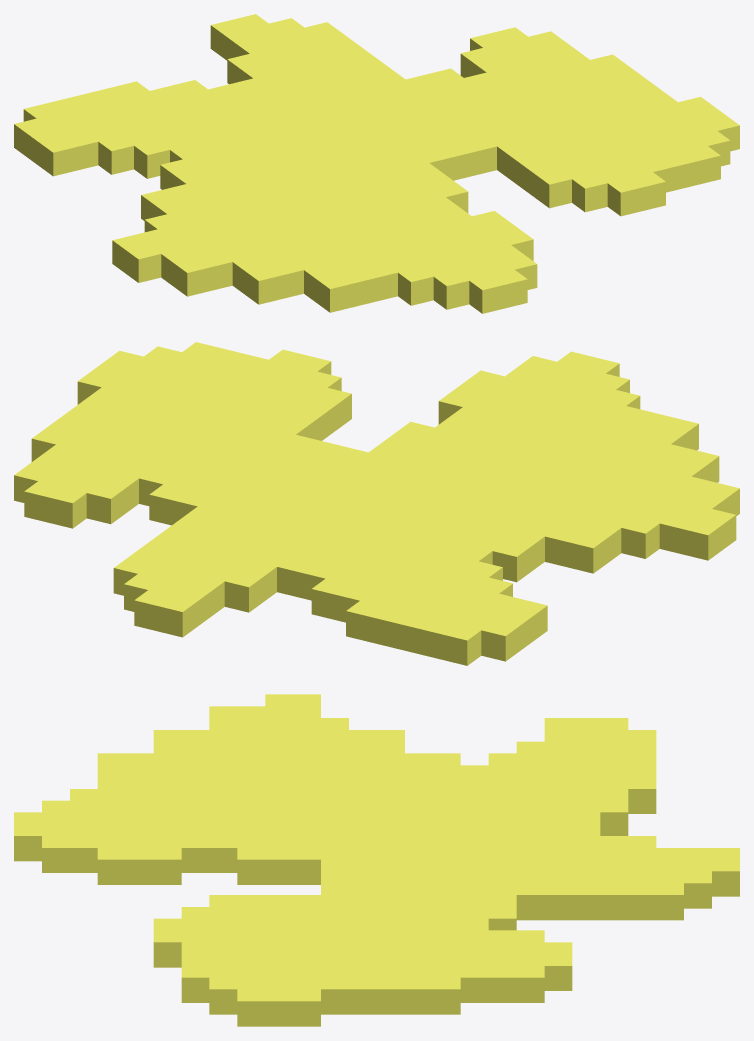
File: RexPee1.obj
3 renders of one model, top to bottom at view 1: azimuth 30°, elevation 25°; view 2: azimuth 150°, elevation 25°; view 3: azimuth 270°, elevation 25°, orthographic. The views are drawn at different scales.
Size of the model in its own units: 2.6 by 0.1 by 2.6.
Materials: 1 (1 with a texture image).
